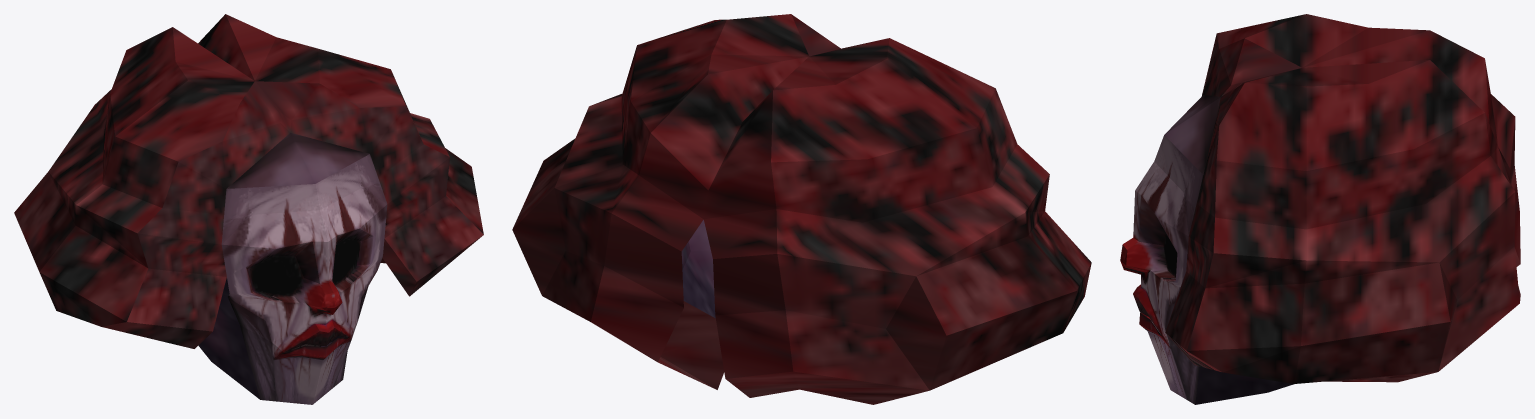
Rendered from clown.glb.
3 views of the same model, side by side, from view 1: azimuth 30°, elevation 25°; view 2: azimuth 150°, elevation 25°; view 3: azimuth 270°, elevation 25° (orthographic). The views are drawn at different scales.
Parts seen in each view (by area): view 1: Sphere.001; view 2: Sphere.001; view 3: Sphere.001.
Part boxes in pixels (left/top/right/bottom): Sphere.001: left=14, top=14, right=483, bottom=404; Sphere.001: left=512, top=14, right=1091, bottom=404; Sphere.001: left=1120, top=14, right=1520, bottom=404.
Bounding box in the file's own units: 3.69 × 2.46 × 2.59.
Materials: 2 (2 with a texture image).
